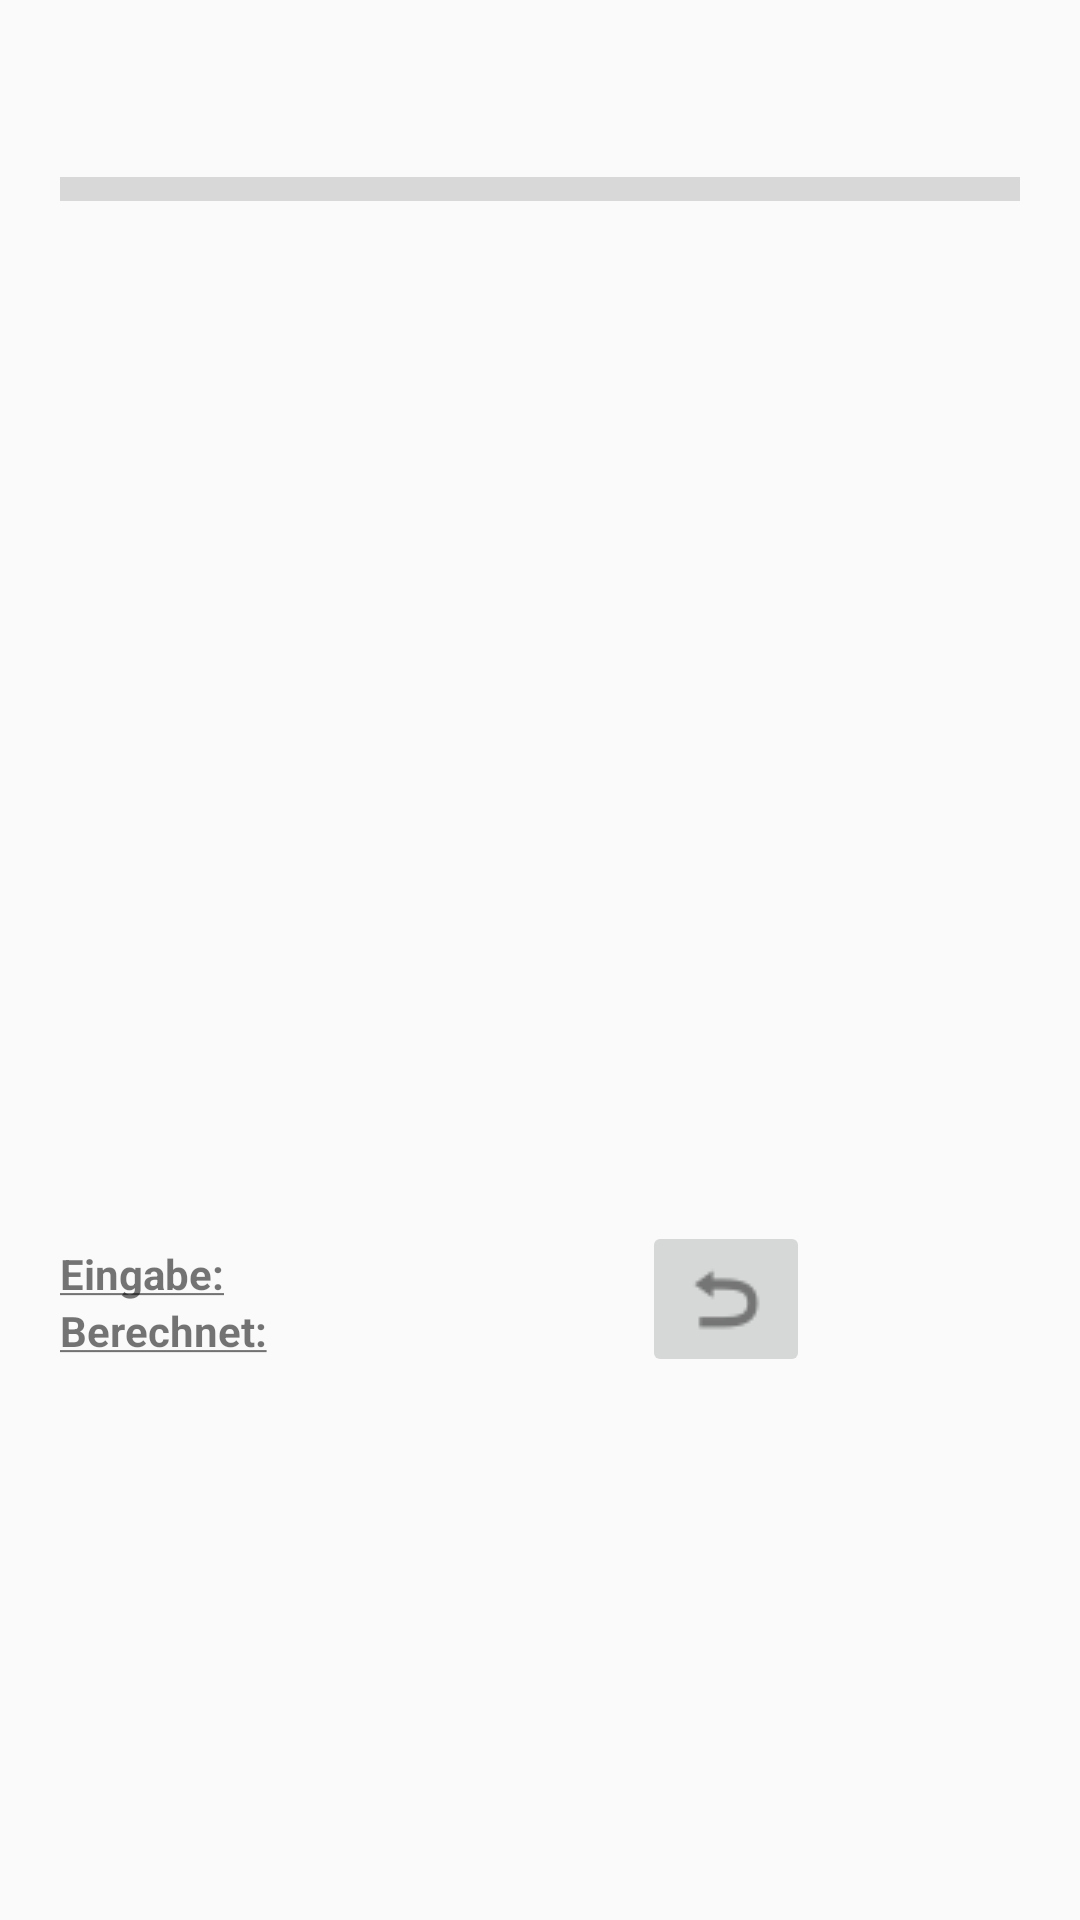

Icon click points for this 1080 × 1920 phone screenshot, format point (x, y):
back: point (726, 1299)
